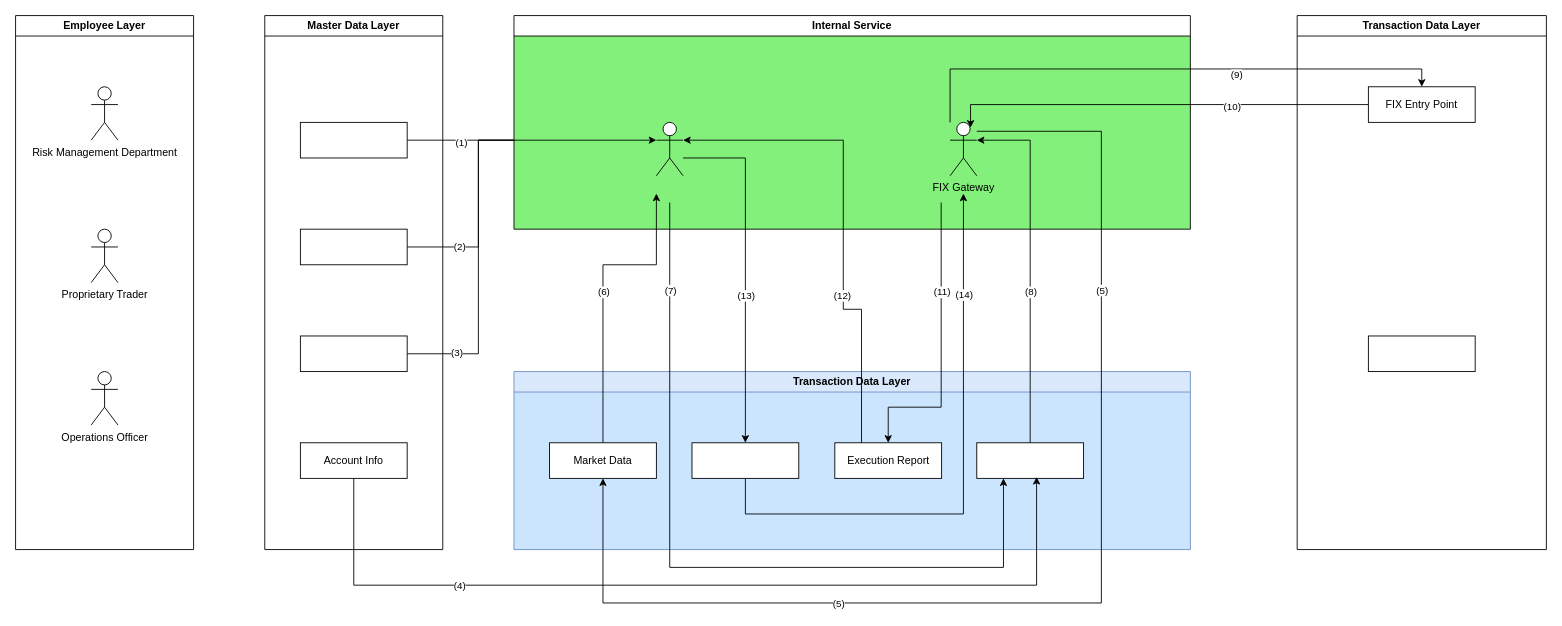
Some shapes in this 1562 by 626 pixel diagram are drawn without their labels. The centre of each missing label's shape, as x and y in pixels:
Cancel Request: the point at 745,460
Instrument Map: the point at 353,353
Market Maker Config: the point at 353,246
Market Maker Engine: the point at 669,148
Matching Engine: the point at 1421,353
Order / Quote Object: the point at 1030,460
Risk Management Config: the point at 353,139
